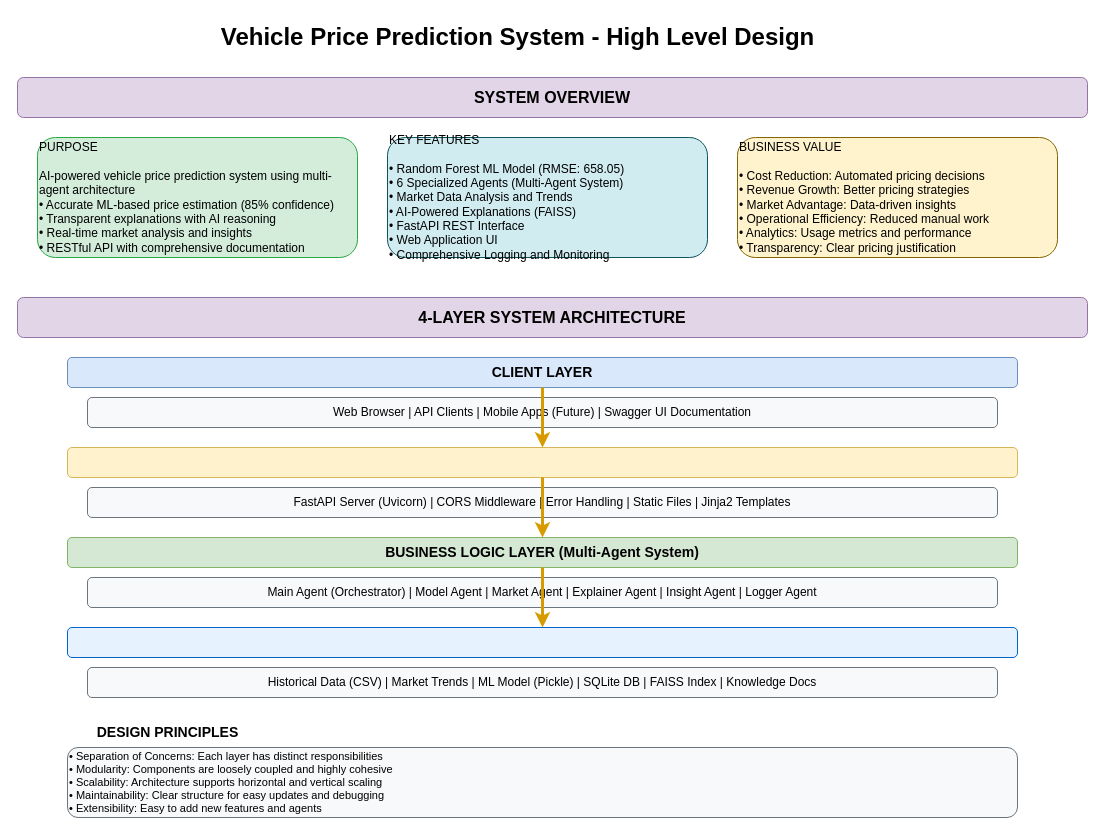
This 1105x835 diagram has some shape labels left out. The box of each missing label's shape, as (x1, y1, x2, y2) in pixels:
API GATEWAY LAYER: (66, 446, 1018, 478)
DATA LAYER: (66, 626, 1018, 658)
